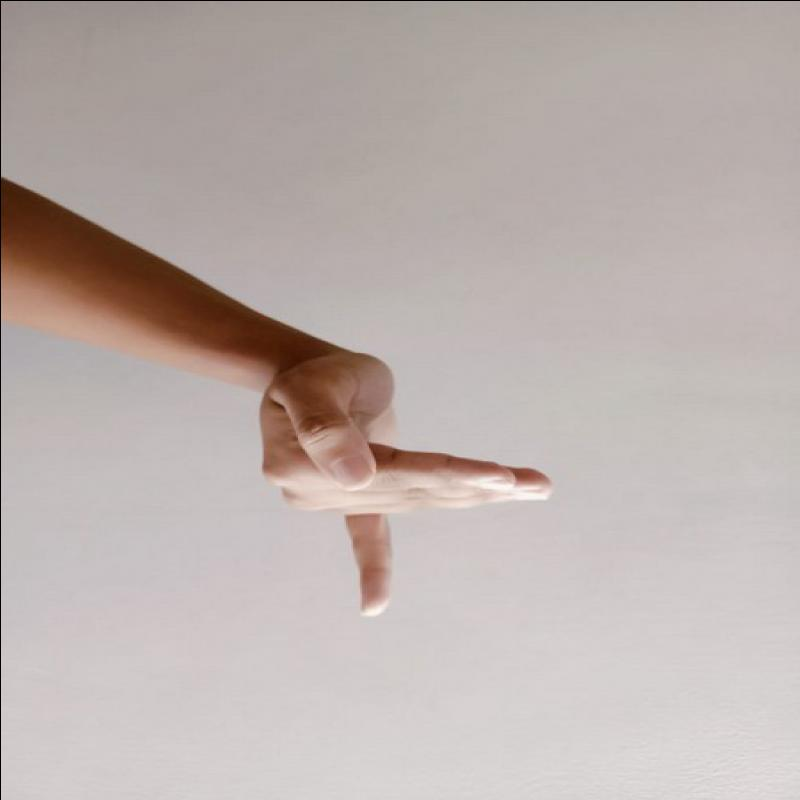Kartharee Mukham: (246, 338, 558, 628)
